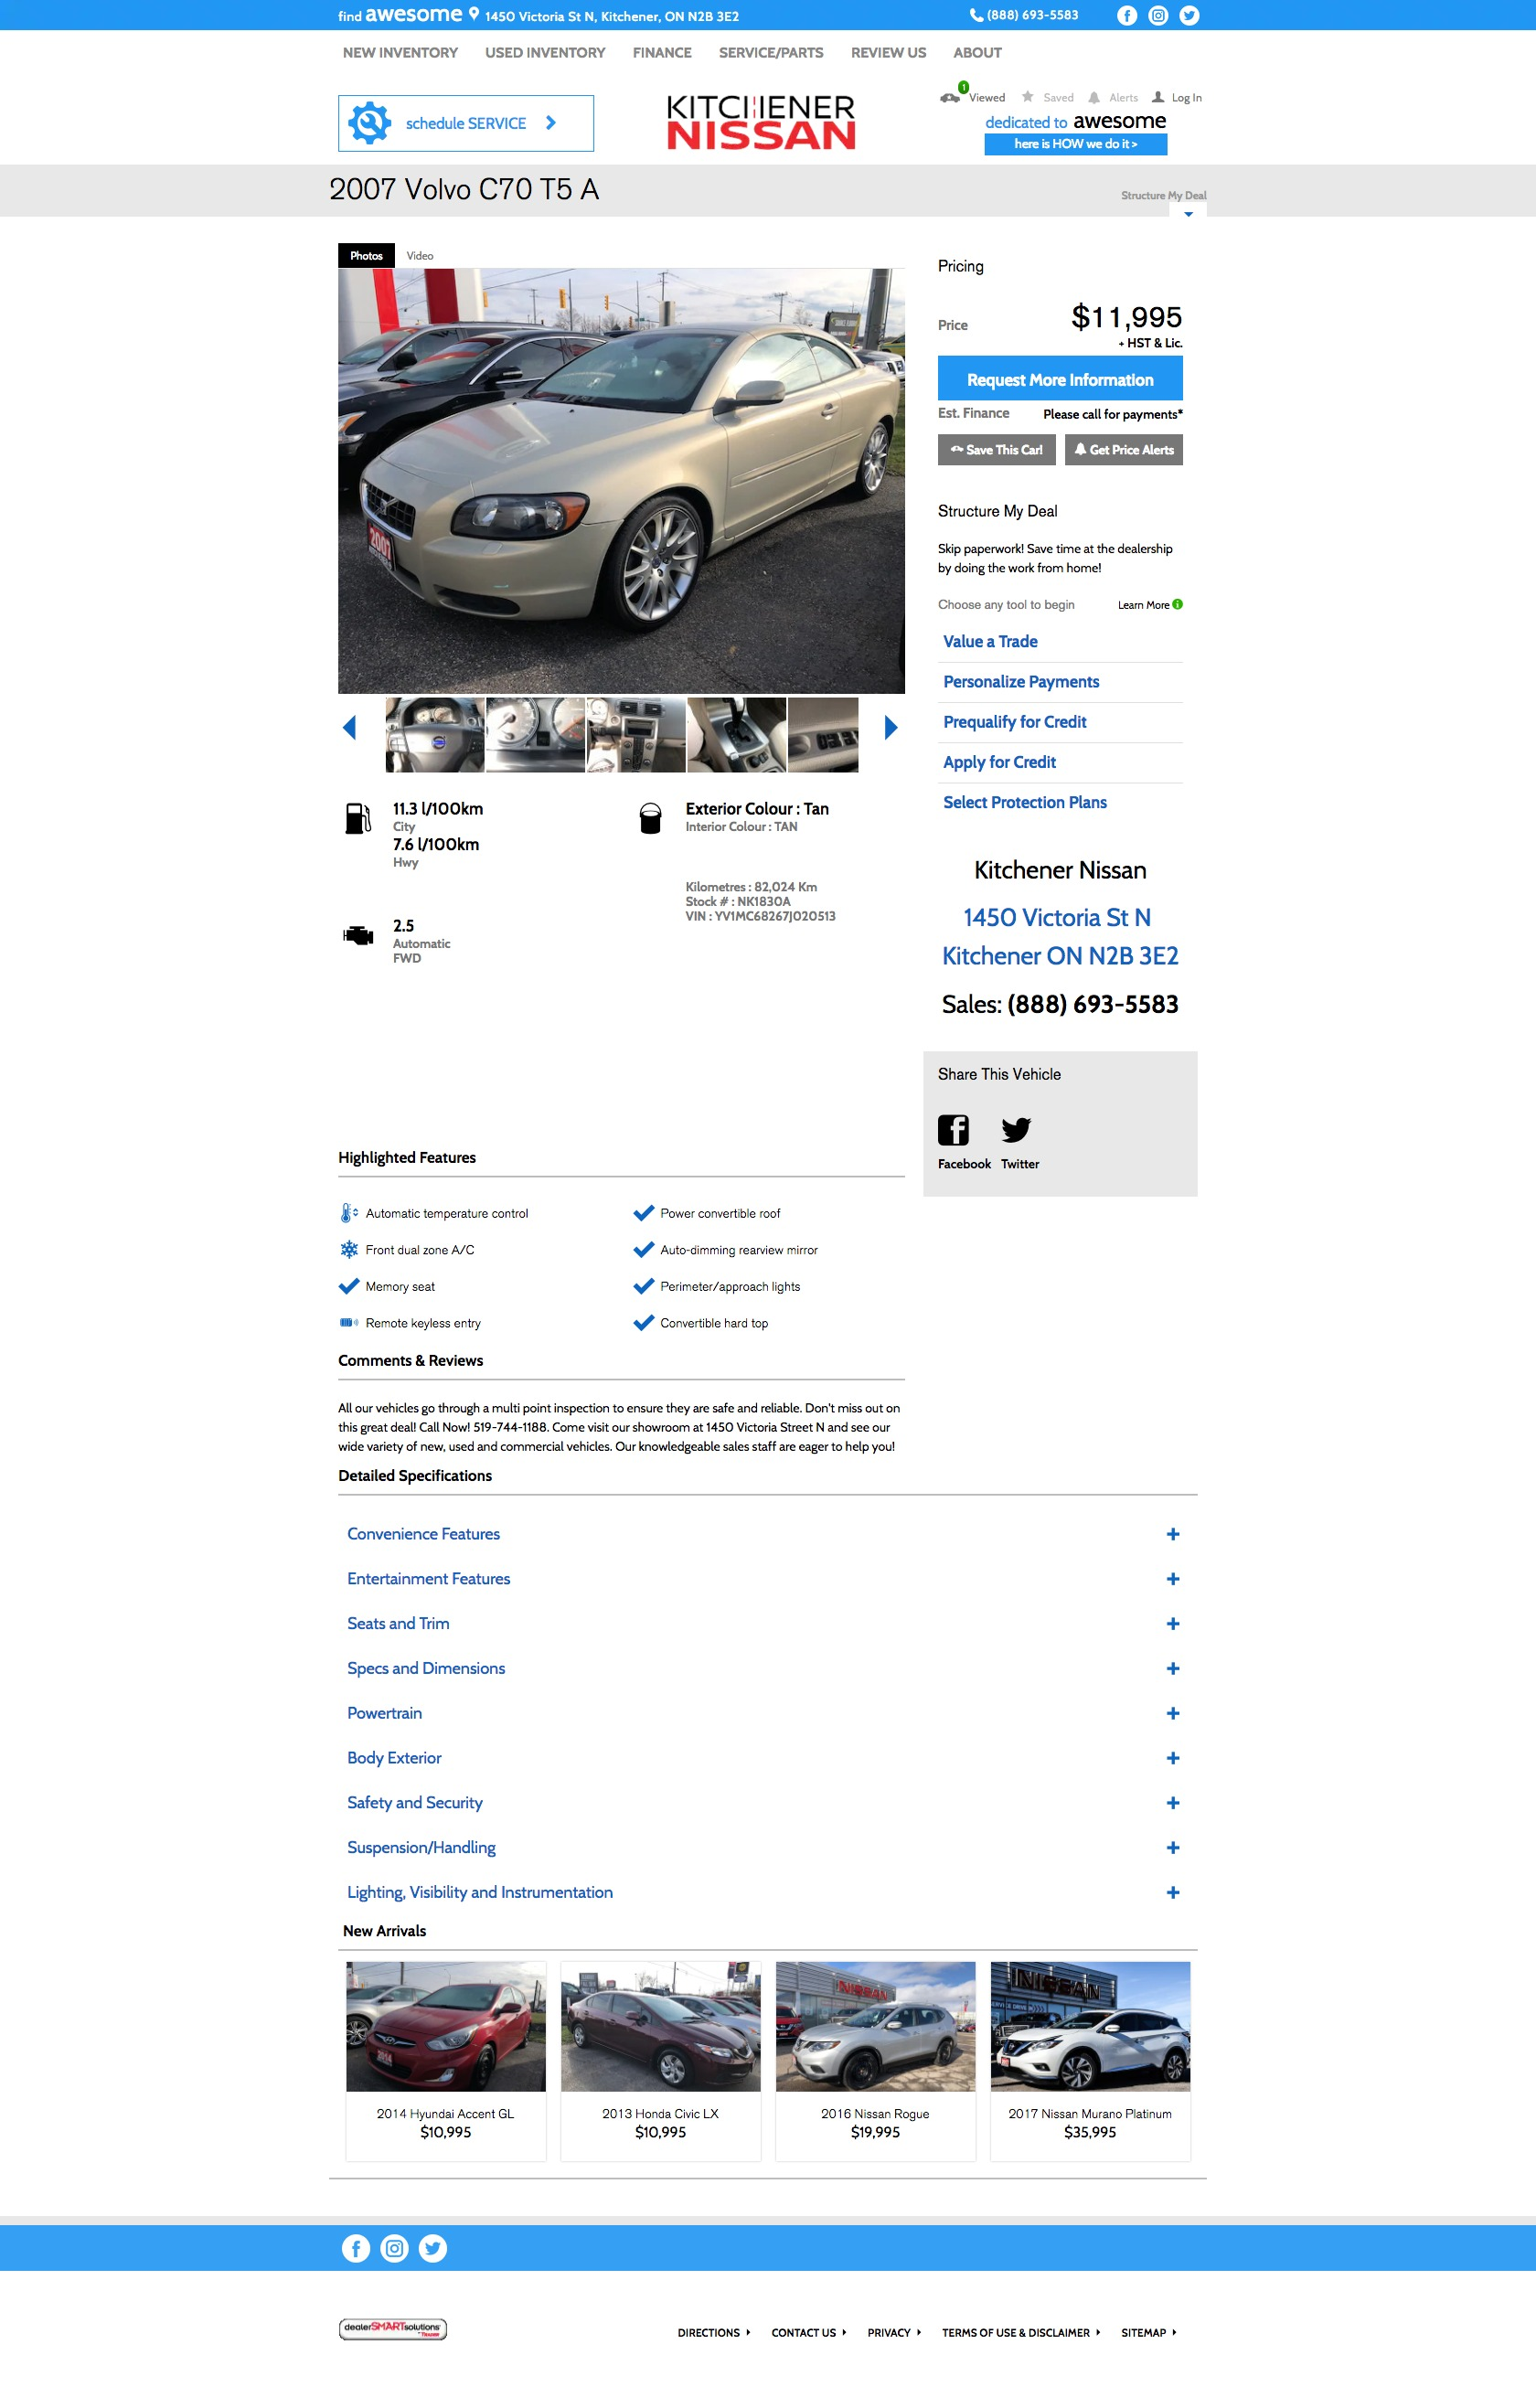car: (885, 714, 899, 742)
